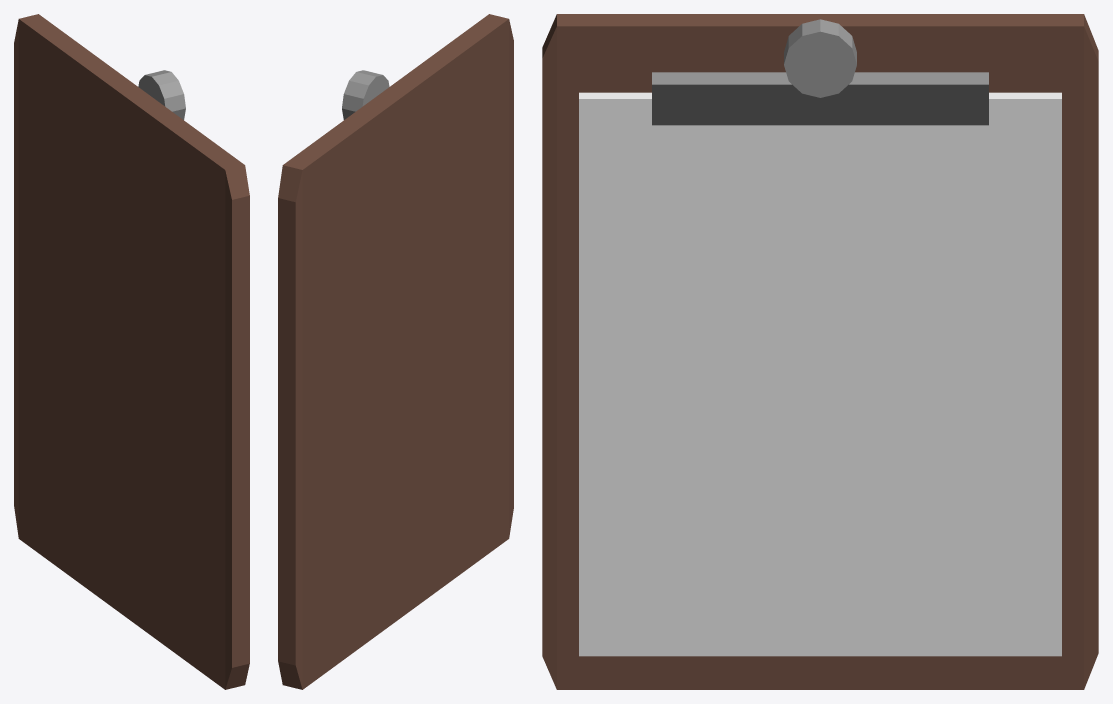
The model's file is clipboard.fbx.
3 views of the same model, side by side, from view 1: azimuth 30°, elevation 25°; view 2: azimuth 150°, elevation 25°; view 3: azimuth 270°, elevation 25° (orthographic). The views are drawn at different scales.
Parts seen in each view (by area): view 1: model; view 2: model; view 3: model.
Part boxes in pixels (bbox=[...]): model: bbox=[14, 14, 249, 689]; model: bbox=[278, 14, 513, 689]; model: bbox=[542, 14, 1098, 689].
Size of the model in its own units: 5 by 51 by 38.
